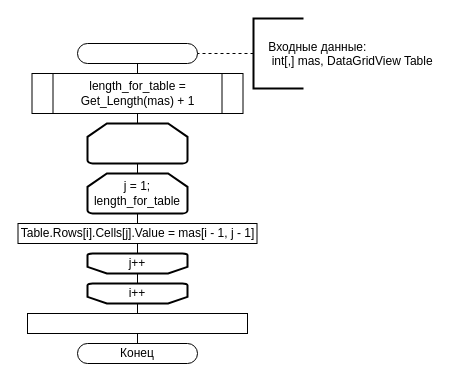
The diagram is 450 pixels wide and 381 high, and some of its shapes have lost their labels. The centre of each missing label's shape, as x and y in pixels:
i = 1; length_for_table: pixel 137 143
Table.Rows[0].Cells[0].Selected = false: pixel 137 323
Начало: pixel 137 53
